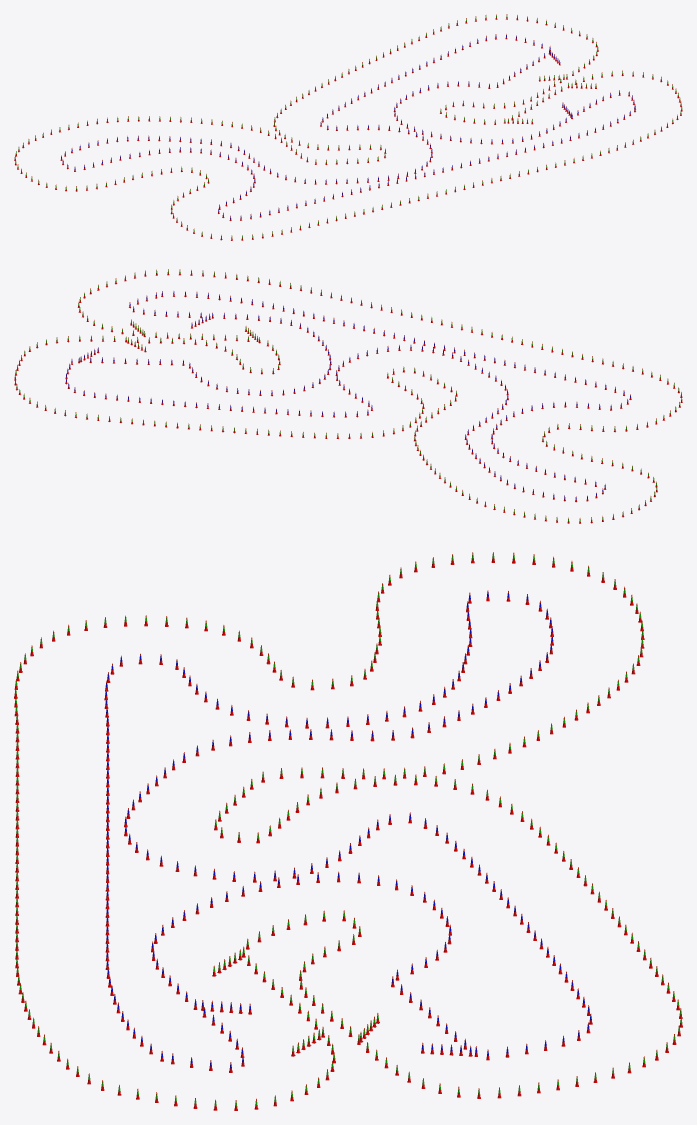
The model's file is CONES.fbx.
The picture shows the model from 3 angles, top to bottom: view 1: azimuth 30°, elevation 25°; view 2: azimuth 150°, elevation 25°; view 3: azimuth 270°, elevation 25°; orthographic projection. The views are drawn at different scales.
Parts seen in each view (by area): view 1: BézierCurve; view 2: BézierCurve; view 3: BézierCurve.
Boxes of the visible parts, box(x1,y1,x2,y2) form: BézierCurve: box(14, 14, 682, 240); BézierCurve: box(14, 269, 682, 523); BézierCurve: box(14, 552, 682, 1110).
Bounding box in the file's own units: 4034 × 7841 × 67.18.
